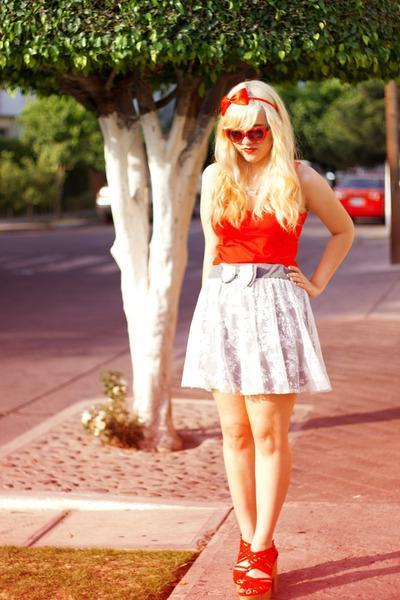skirt: (179, 262, 330, 402)
vest: (209, 151, 301, 265)
